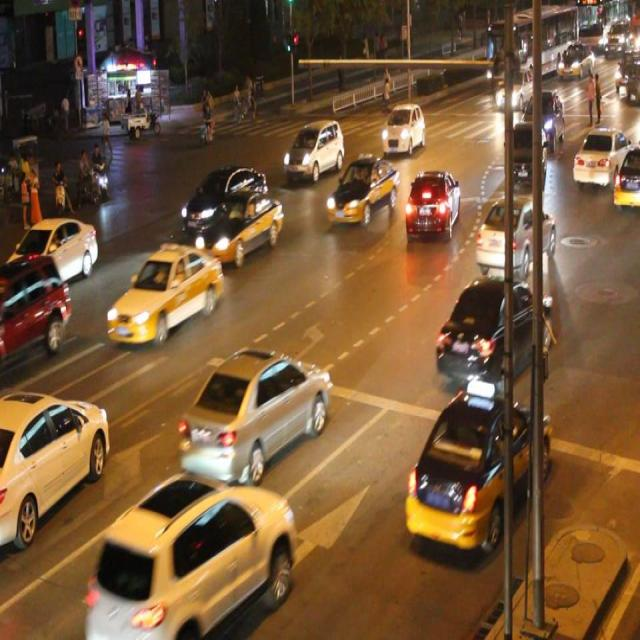car: (87, 474, 295, 640), (405, 390, 547, 550), (178, 348, 331, 482), (1, 389, 110, 540), (435, 275, 549, 385), (106, 244, 223, 343), (0, 255, 70, 360), (194, 189, 284, 264), (0, 216, 99, 284), (182, 168, 268, 238), (476, 196, 553, 274), (325, 154, 398, 224), (403, 167, 458, 241), (283, 118, 343, 179), (572, 125, 628, 188), (504, 120, 546, 191), (380, 101, 424, 155), (611, 146, 640, 206)
